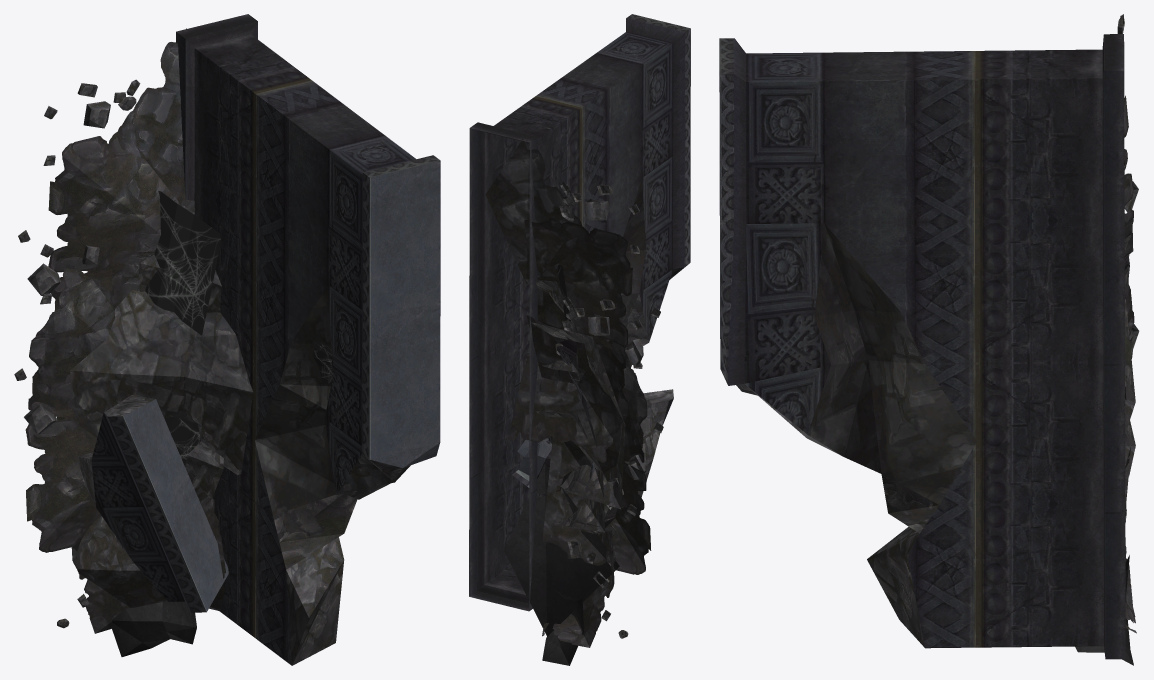
File: huodong_fuben_652_pingtai02_qiang01a.obj
The picture shows the model from 3 angles, left to right: view 1: azimuth 30°, elevation 25°; view 2: azimuth 150°, elevation 25°; view 3: azimuth 270°, elevation 25°; orthographic projection. The views are drawn at different scales.
Parts seen in each view (by area): view 1: huodong_fuben_652_pingtai02_qiang01a; view 2: huodong_fuben_652_pingtai02_qiang01a; view 3: huodong_fuben_652_pingtai02_qiang01a.
Part boxes in pixels (x1,y1,x2,y2): huodong_fuben_652_pingtai02_qiang01a: [14, 14, 440, 665]; huodong_fuben_652_pingtai02_qiang01a: [469, 14, 690, 665]; huodong_fuben_652_pingtai02_qiang01a: [719, 14, 1139, 665].
Bounding box in the file's own units: 748 × 1926 × 1114.
Materials: 6 (6 with a texture image).
